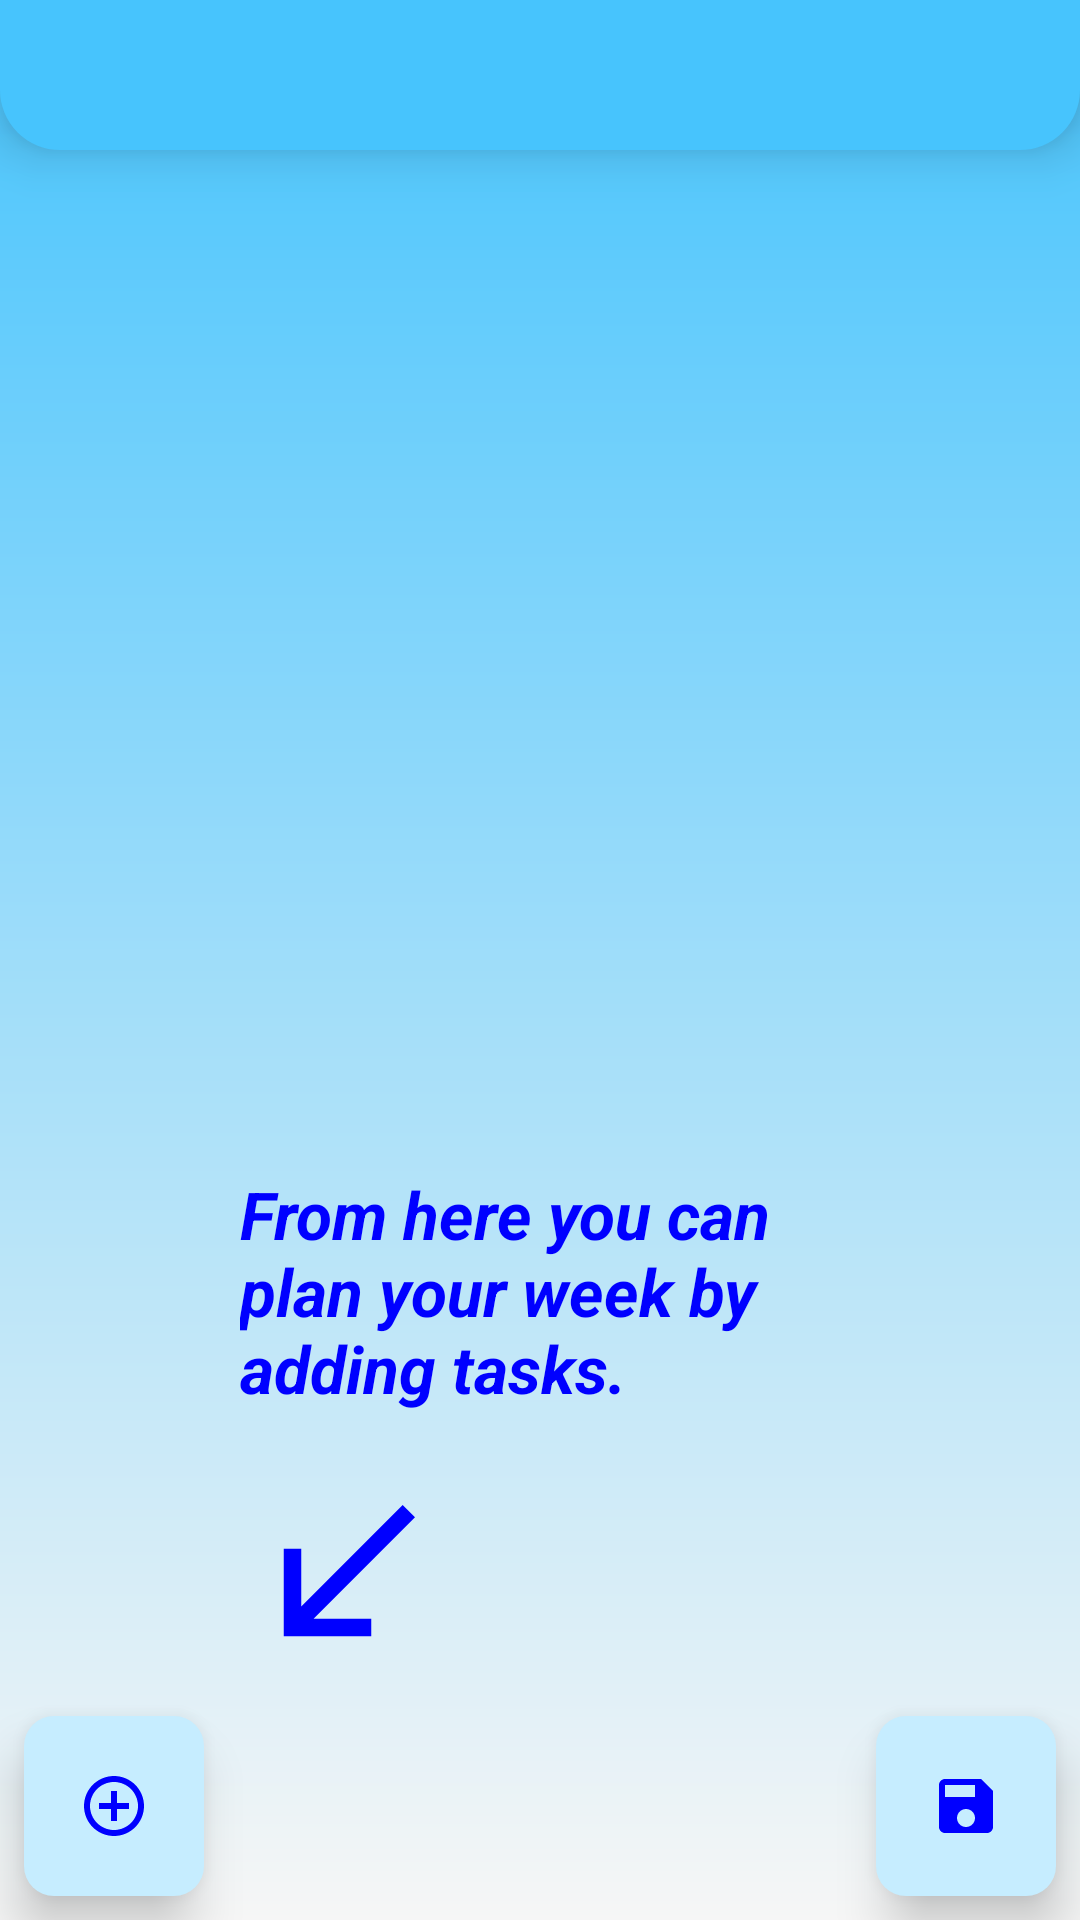

Icons on this 1080×1920 Android screen, each with its box as (x1,y1,x2,y2):
add: (24,1716,204,1896)
left bottom arrow: (240,1505,450,1680)
save: (876,1716,1056,1896)
